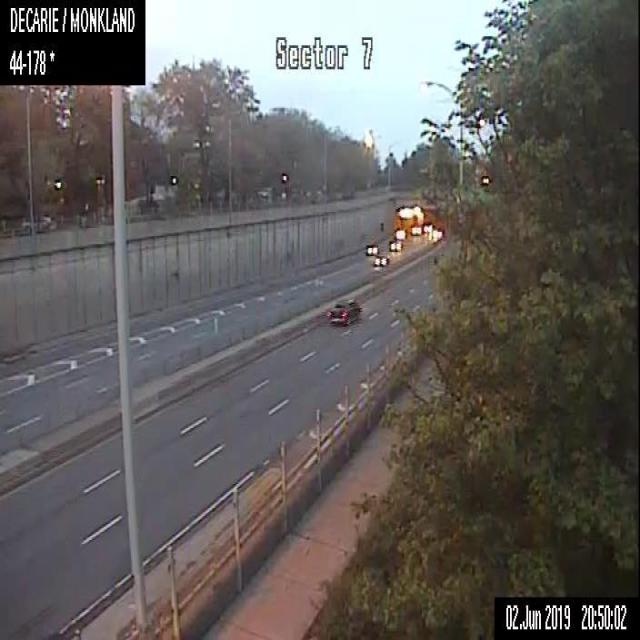vehicle: (326, 297, 361, 324), (365, 242, 378, 254), (374, 253, 386, 265), (389, 239, 403, 249), (410, 222, 420, 234), (422, 220, 432, 232), (395, 228, 405, 239)
